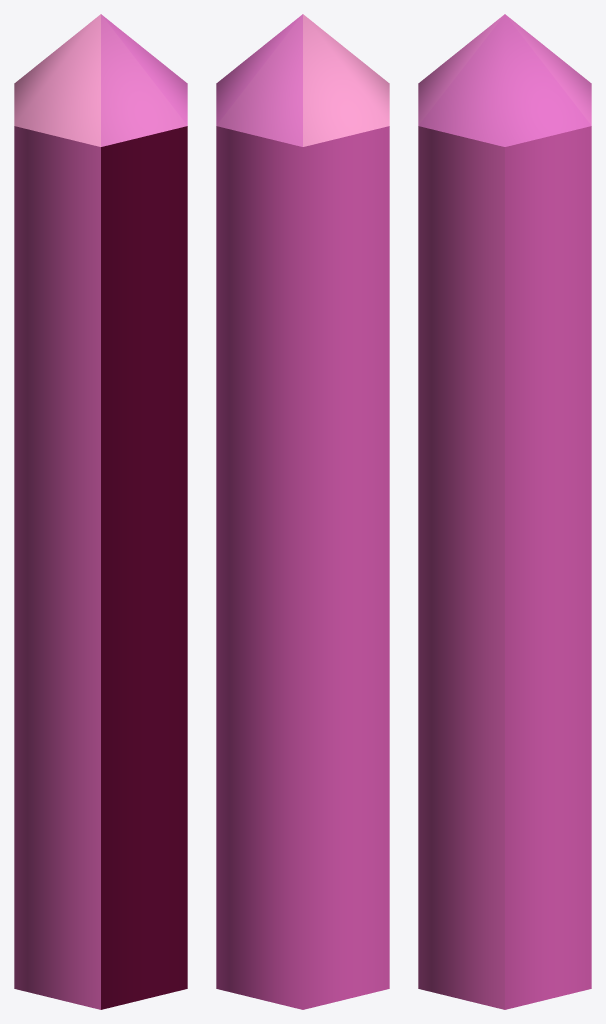
The model's file is Solo.RocketMesh.PinkCosmos.glb.
The picture shows the model from 3 angles, left to right: view 1: azimuth 30°, elevation 25°; view 2: azimuth 150°, elevation 25°; view 3: azimuth 270°, elevation 25°; orthographic projection.
Parts seen in each view (by area): view 1: Solo.RocketMesh.PinkCosmos; view 2: Solo.RocketMesh.PinkCosmos; view 3: Solo.RocketMesh.PinkCosmos.
Part boxes in pixels (x1,y1,x2,y2): Solo.RocketMesh.PinkCosmos: [14, 14, 187, 1009]; Solo.RocketMesh.PinkCosmos: [216, 14, 389, 1009]; Solo.RocketMesh.PinkCosmos: [418, 14, 591, 1009].
Bounding box in the file's own units: 0.2 × 1.05 × 0.1732.
1 material, 1 textured.
